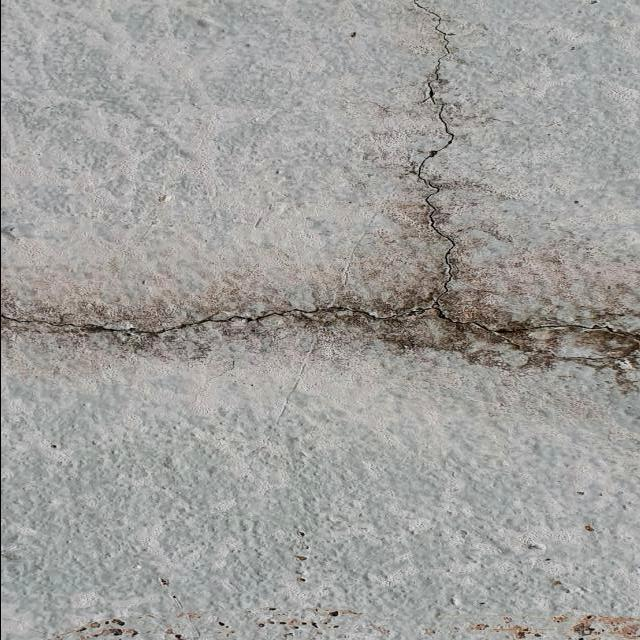SurfaceCrack: (0, 567, 639, 640)
